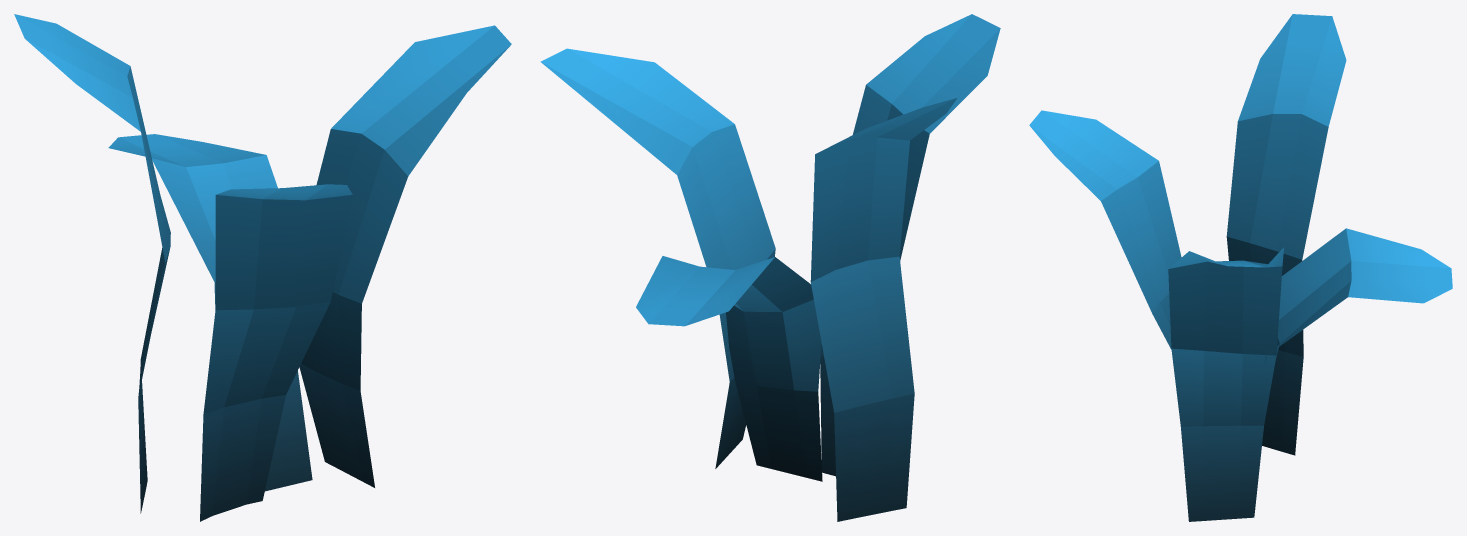
Rendered from Grass_M.fbx.
3 views of the same model, side by side, from view 1: azimuth 30°, elevation 25°; view 2: azimuth 150°, elevation 25°; view 3: azimuth 270°, elevation 25° (orthographic). The views are drawn at different scales.
Visible parts, largest first — view 1: Grass_M_Mesh; view 2: Grass_M_Mesh; view 3: Grass_M_Mesh.
Part boxes in pixels (x1,y1,x2,y2): Grass_M_Mesh: (14, 14, 511, 521); Grass_M_Mesh: (540, 14, 1000, 521); Grass_M_Mesh: (1029, 14, 1452, 521).
Bounding box in the file's own units: 153 × 154 × 150.
